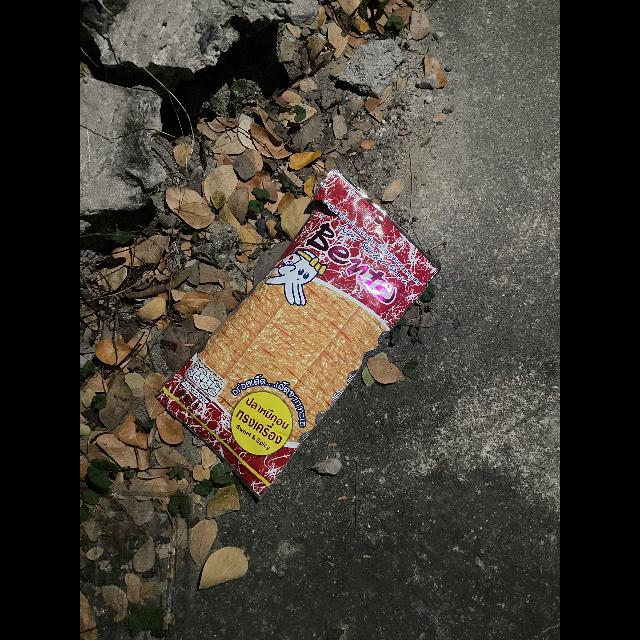snack_bag: (152, 164, 444, 498)
